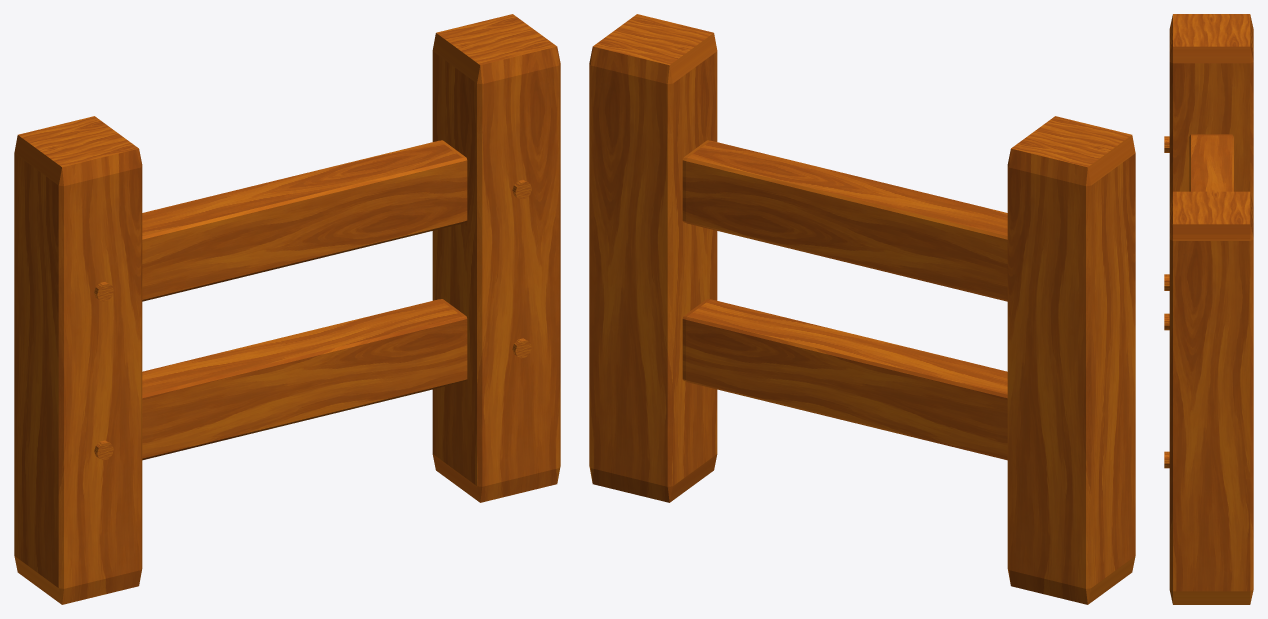
The model's file is crafted-fence.gltf.
3 renders of one model, left to right at view 1: azimuth 30°, elevation 25°; view 2: azimuth 150°, elevation 25°; view 3: azimuth 270°, elevation 25°, orthographic. The views are drawn at different scales.
Visible parts, largest first — view 1: crafted-fence; view 2: crafted-fence; view 3: crafted-fence.
Part boxes in pixels (x1=…): crafted-fence: x1=14, y1=14, x2=560, y2=604; crafted-fence: x1=589, y1=14, x2=1135, y2=604; crafted-fence: x1=1164, y1=14, x2=1253, y2=604.
Bounding box in the file's own units: 0.96 × 0.8 × 0.17.
Materials: 1 (1 with a texture image).
